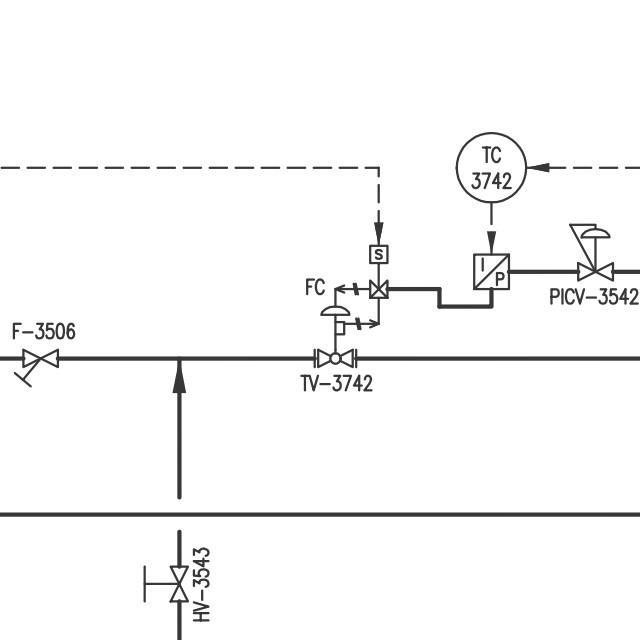CBV: (308, 241, 395, 377)
EPA: (462, 247, 518, 295)
HVWT: (135, 558, 189, 607)
PCV: (563, 216, 617, 282)
S: (11, 345, 62, 389)
